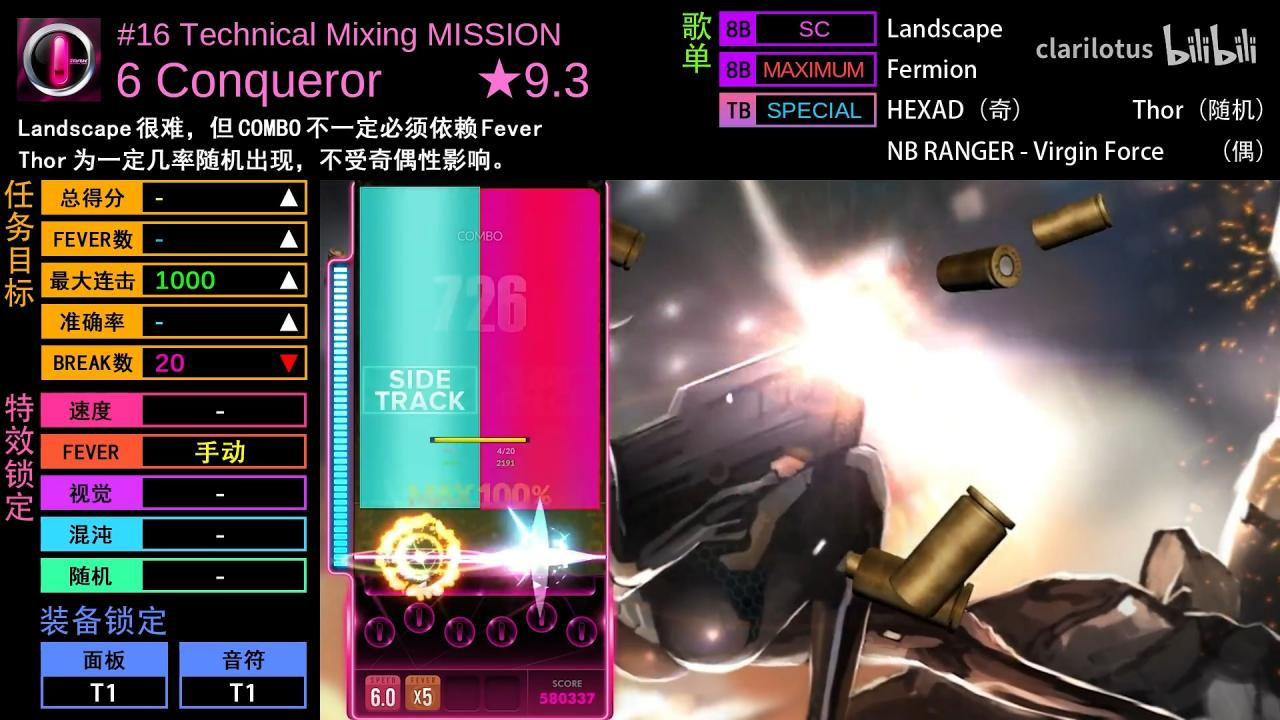side-start: (359, 496, 481, 509)
xend: (480, 189, 600, 199)
xstart: (481, 496, 600, 509)
